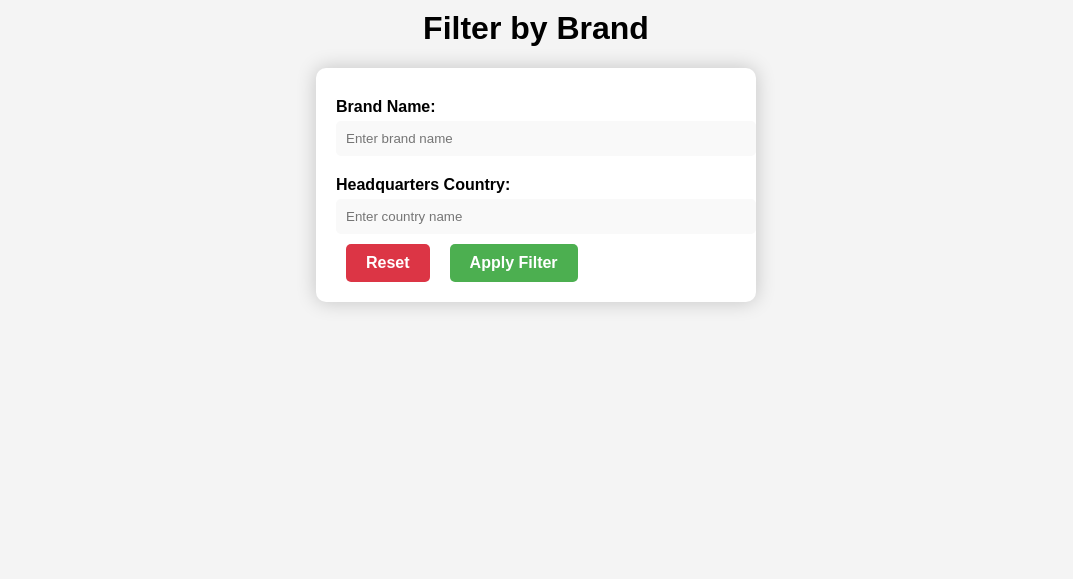
Test: BrandTab › resets brand filters
This screenshot has width=1073, height=579.
Type "Brand 1" into the field labelled "Brand Name:".
click(546, 139); type("Brand 1")  # box [336,121,756,156]
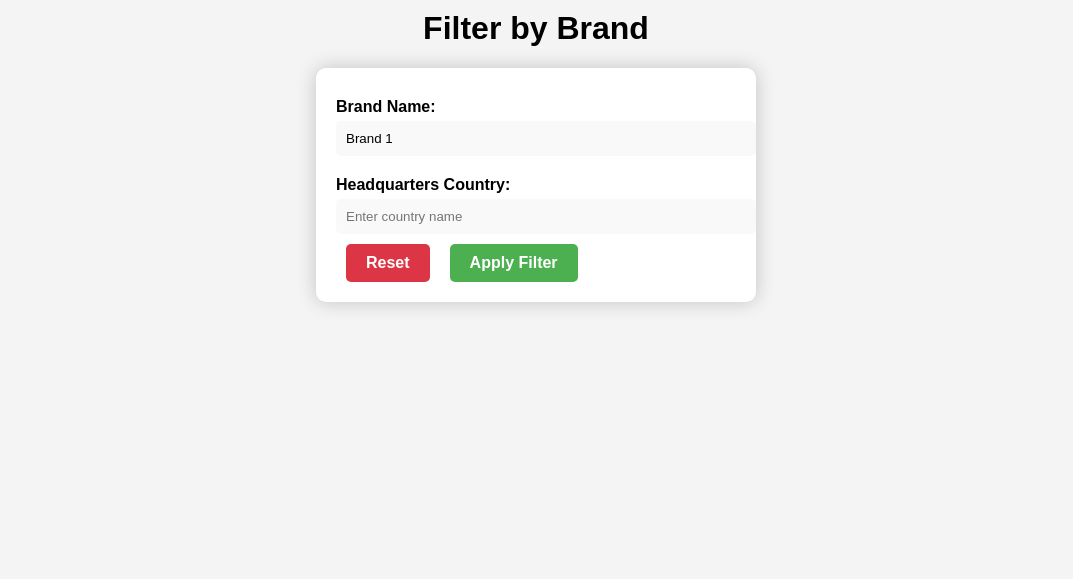
Type "Country 1" into the field labelled "Headquarters Country:".
click(546, 217); type("Country 1")  # box [336,199,756,234]
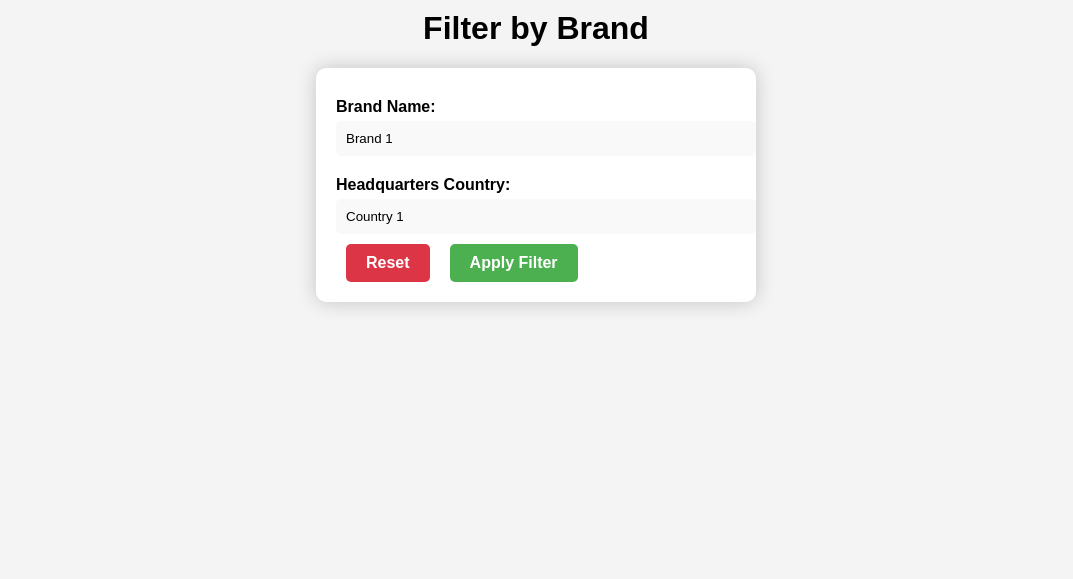
Click the button "Reset".
click(388, 263)  # box [346,244,430,282]
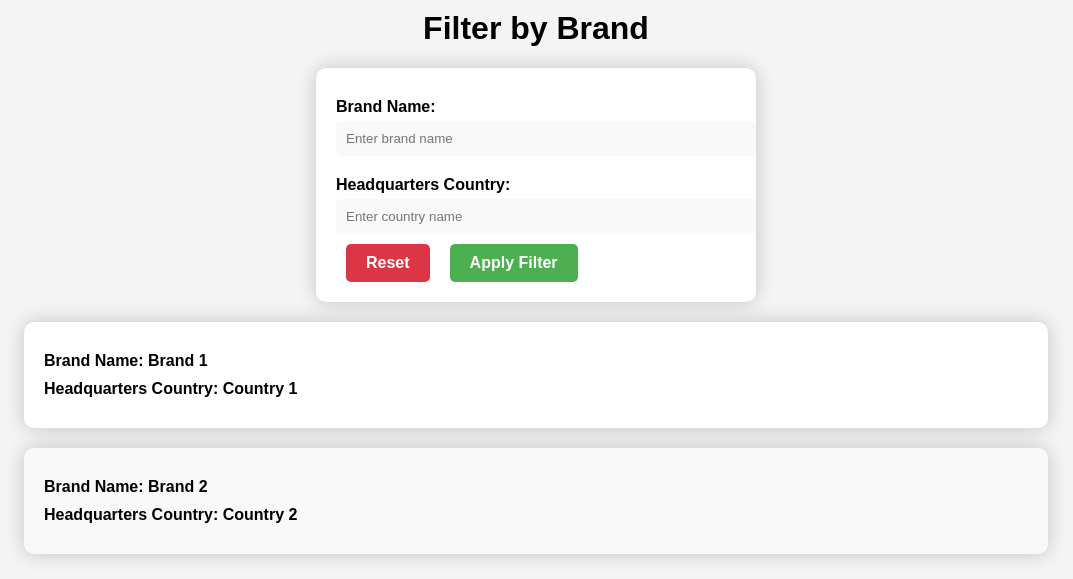
Now the field labelled "Brand Name:" is empty, box [336,121,756,156]
